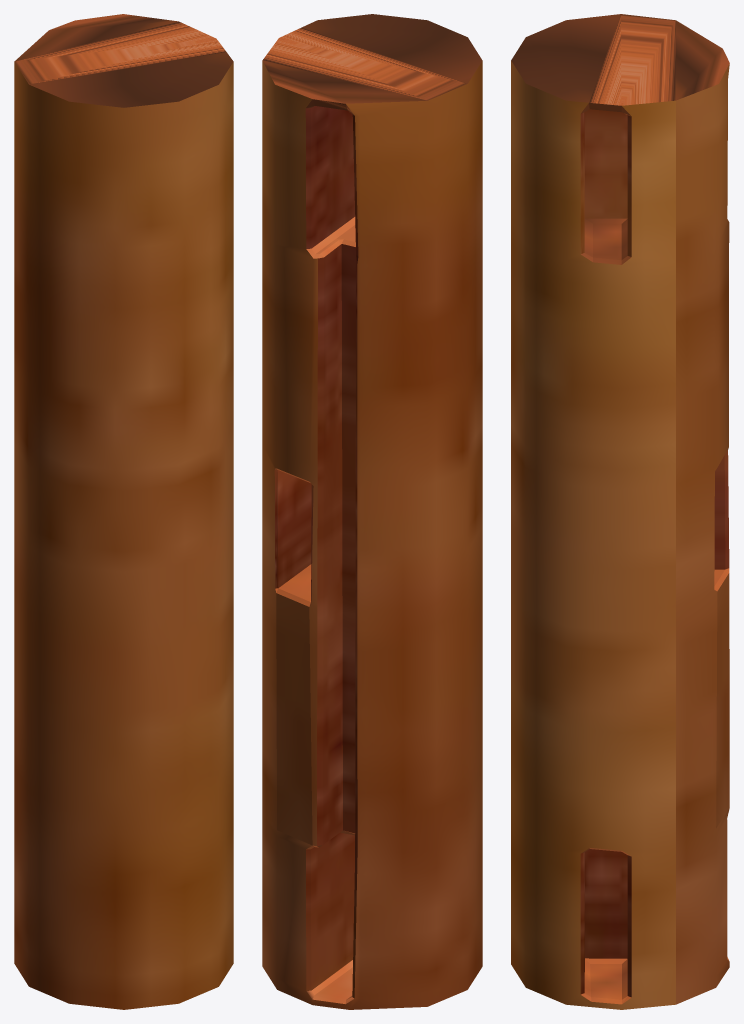
Rendered from SJ_J_tui_03.FBX.
3 renders of one model, left to right at view 1: azimuth 30°, elevation 25°; view 2: azimuth 150°, elevation 25°; view 3: azimuth 270°, elevation 25°, orthographic.
Visible parts, largest first — view 1: SJ_J_tui_03; view 2: SJ_J_tui_03; view 3: SJ_J_tui_03.
Boxes of the visible parts, x1,y1,x2,y2 form: SJ_J_tui_03: [14, 14, 233, 1009]; SJ_J_tui_03: [262, 14, 482, 1009]; SJ_J_tui_03: [511, 14, 729, 1009].
Bounding box in the file's own units: 3.99 × 18.34 × 4.02.
